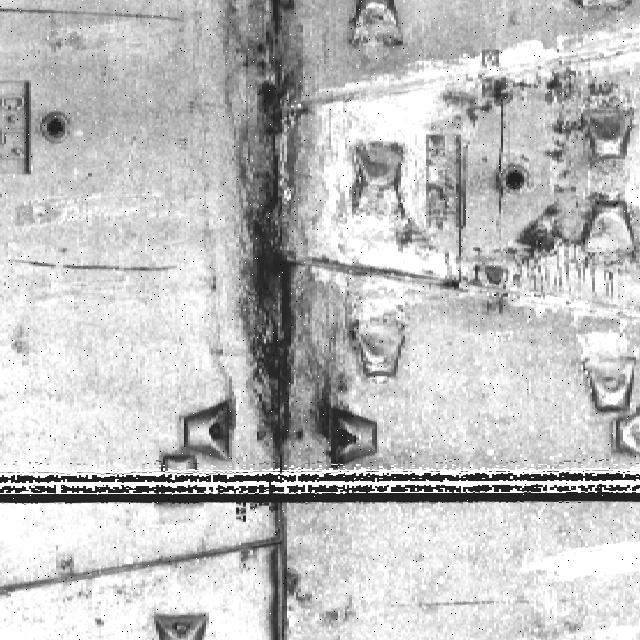leakage: (222, 1, 330, 480)
